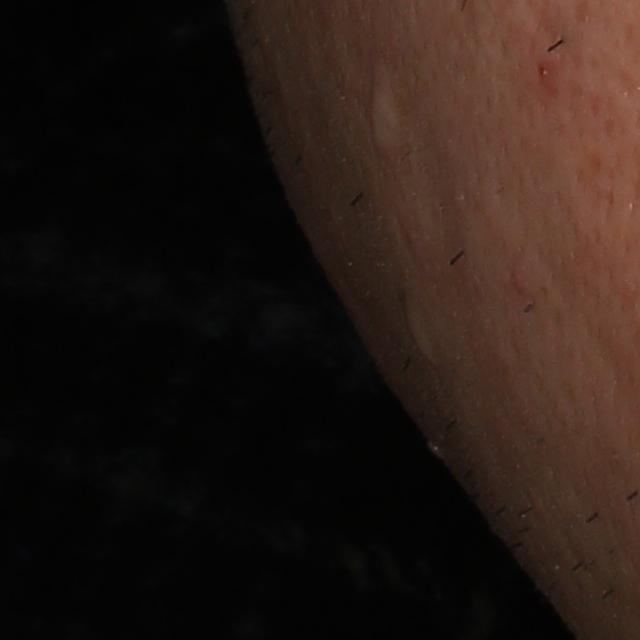hypertrophic_scar: (365, 63, 415, 170)
papule: (509, 270, 539, 305)
